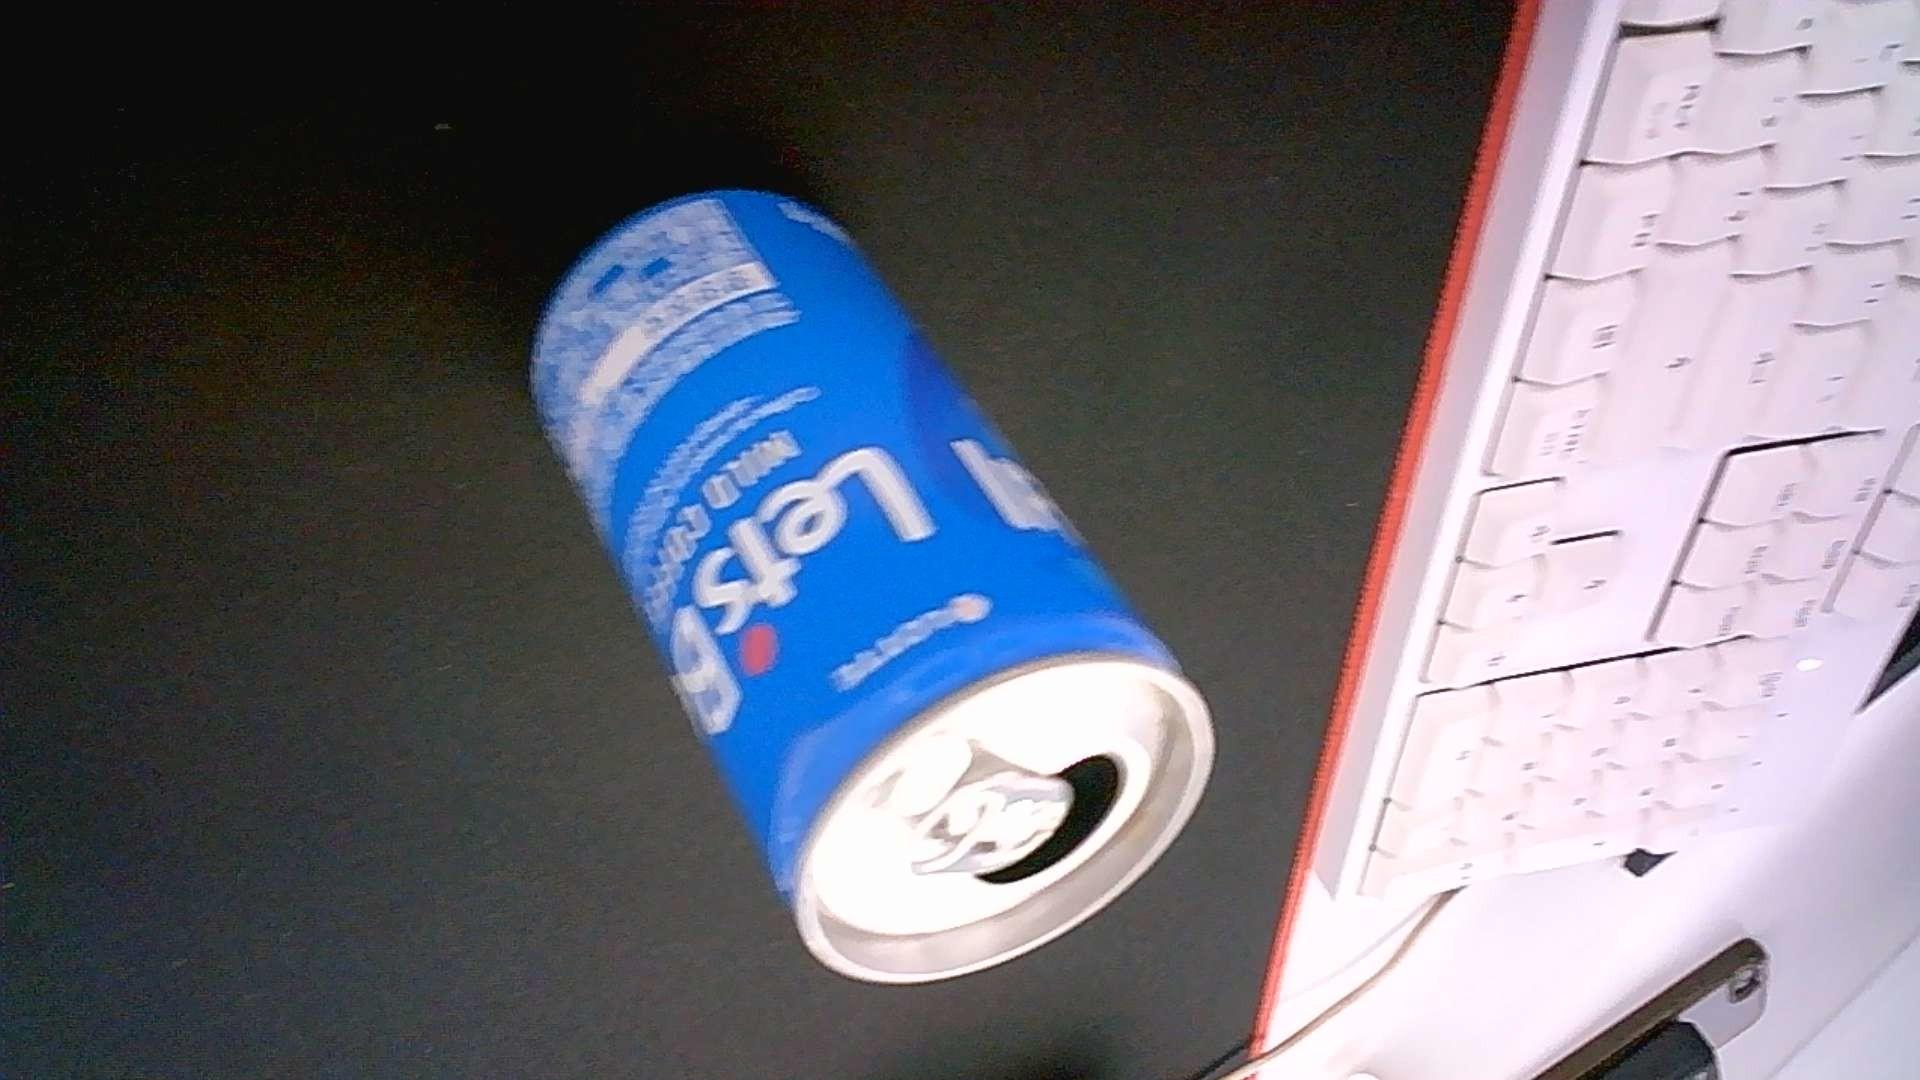letsbe: (526, 185, 1218, 986)
